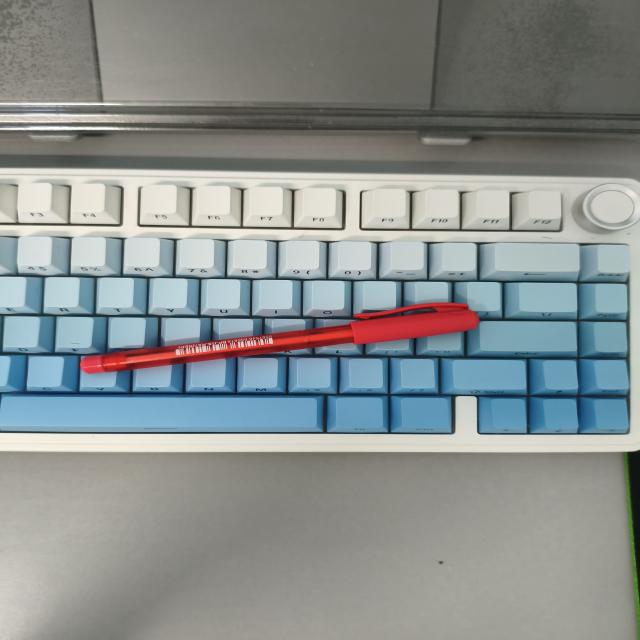pen: (80, 303, 479, 373)
